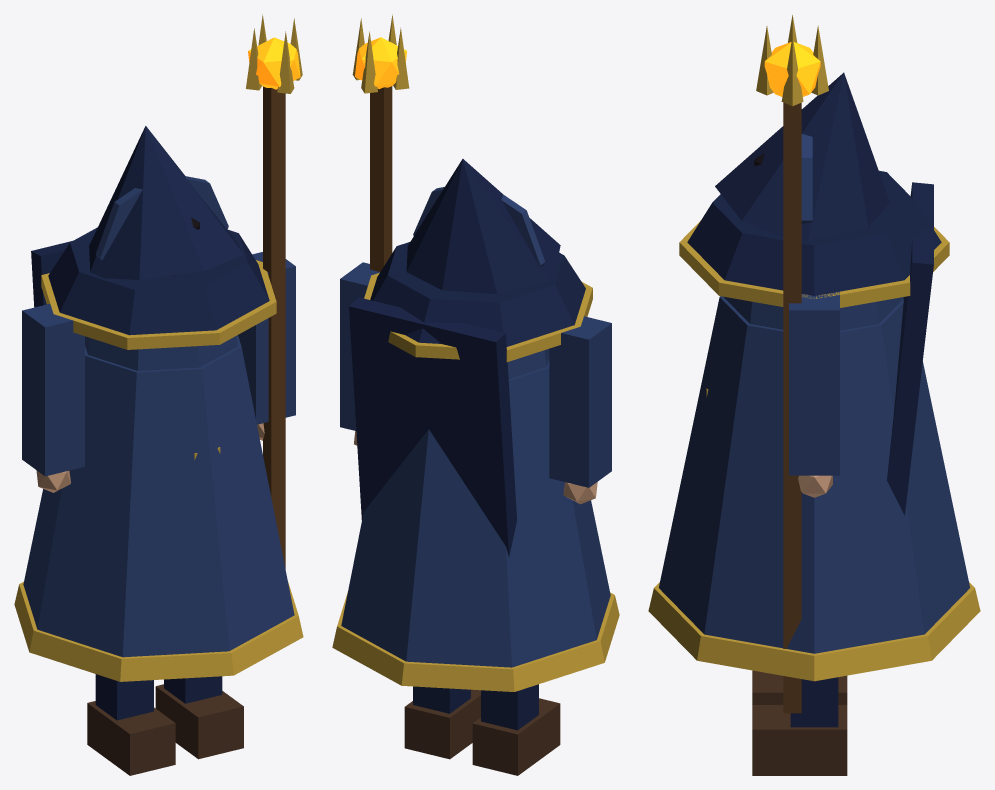
The model's file is hero.glb.
3 views of the same model, side by side, from view 1: azimuth 30°, elevation 25°; view 2: azimuth 150°, elevation 25°; view 3: azimuth 270°, elevation 25° (orthographic). The views are drawn at different scales.
Visible parts, largest first — view 1: robe, mantle, hood, armL_m, staff, hem, legL_boot, legR_boot, mantle_trim, armR_m, chest, legL_m (+7 smaller); view 2: robe, cloak, hood, mantle, armL_m, hem, legL_boot, staff, legR_boot, armR_m, mantle_trim, legL_m (+7 smaller); view 3: robe, hood, mantle, hem, armR_m, staff, cloak, legR_boot, mantle_trim, chest, legR_m, orb (+4 smaller).
Part boxes in pixels (<box>): robe: <box>23,335,294,657</box>; mantle: <box>48,227,269,335</box>; hood: <box>89,126,243,280</box>; armL_m: <box>22,304,84,476</box>; staff: <box>263,86,285,568</box>; hem: <box>14,581,303,681</box>; legL_boot: <box>87,701,175,775</box>; legR_boot: <box>155,684,243,759</box>; mantle_trim: <box>41,260,276,349</box>; armR_m: <box>238,252,295,424</box>; chest: <box>85,335,238,370</box>; legL_m: <box>95,674,153,720</box>; robe: <box>341,359,610,667</box>; cloak: <box>349,297,516,557</box>; hood: <box>406,159,560,294</box>; mantle: <box>370,242,585,346</box>; armL_m: <box>549,316,611,487</box>; hem: <box>332,592,619,691</box>; legL_boot: <box>472,698,560,775</box>; staff: <box>370,86,392,271</box>; legR_boot: <box>404,689,480,759</box>; armR_m: <box>340,262,379,430</box>; mantle_trim: <box>364,272,592,362</box>; legL_m: <box>481,684,538,730</box>; robe: <box>659,296,969,653</box>; hood: <box>715,72,889,241</box>; mantle: <box>687,170,941,295</box>; hem: <box>648,582,980,681</box>; armR_m: <box>789,291,839,475</box>; staff: <box>783,102,801,713</box>; cloak: <box>887,182,933,515</box>; legR_boot: <box>752,705,847,775</box>; mantle_trim: <box>679,220,949,307</box>; chest: <box>723,296,903,330</box>; legR_m: <box>790,677,838,727</box>; orb: <box>764,42,820,96</box>.
Size of the model in its own units: 0.925 by 2.35 by 0.91.
